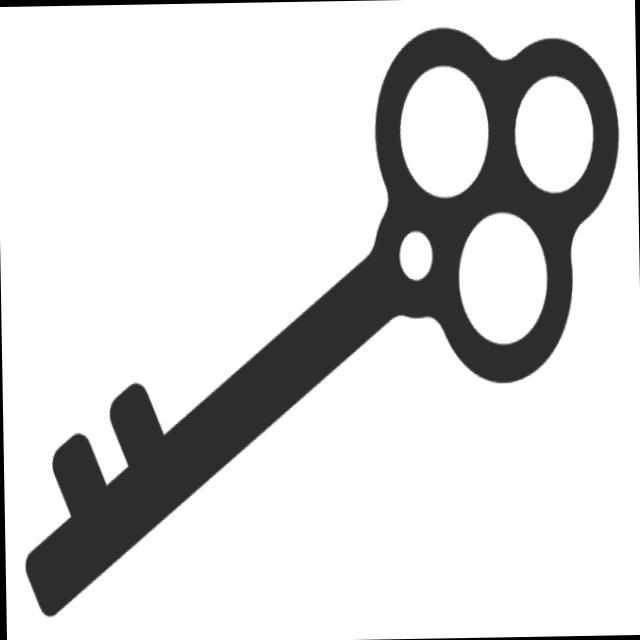key: (7, 12, 639, 627)
